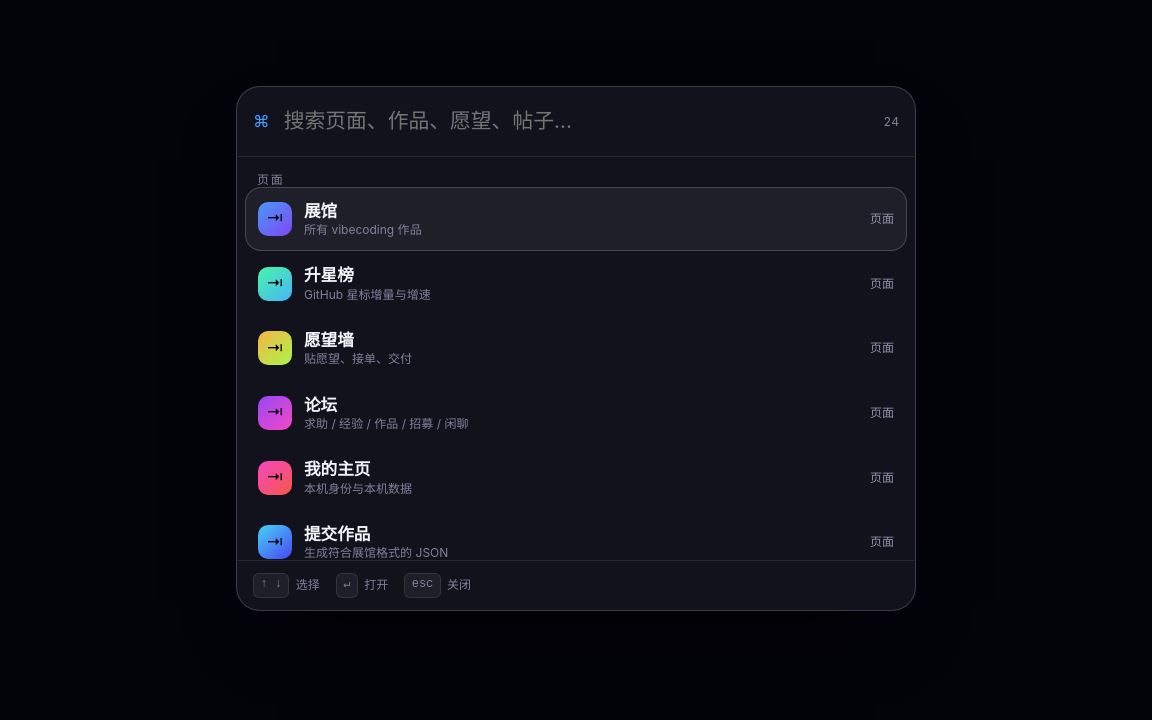
CommandPalette › shows an empty state when nothing matches
Step 1. Type "zzzz-不存在" into the field named "搜索页面、作品、愿望或帖子" → coordinates (577, 122), box 282,103 -> 872,140
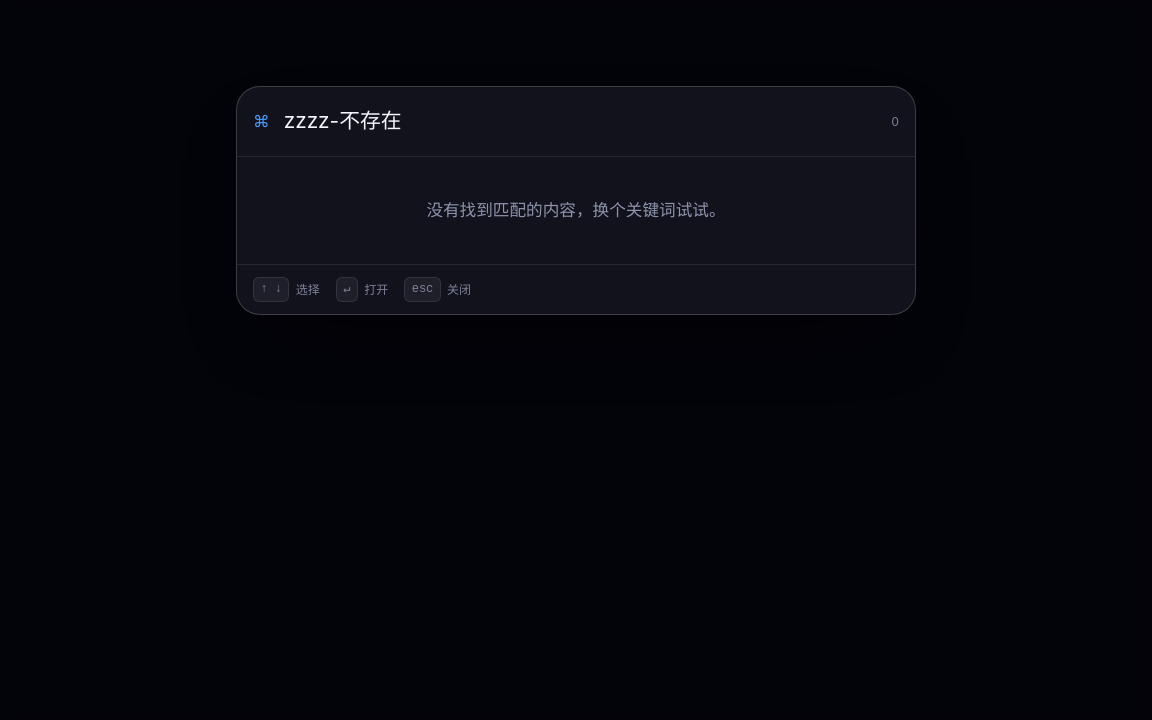
Check: no options are shown
Check: the text "没有找到匹配的内容，换个关键词试试。" is shown, box 426,200 -> 726,220
